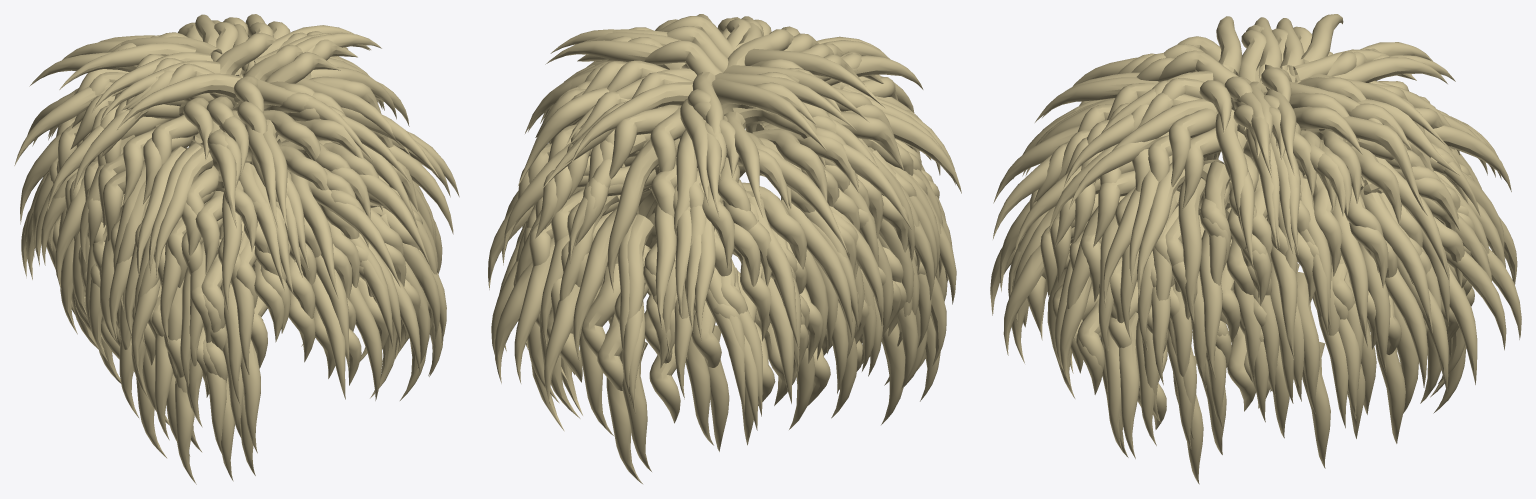
The model's file is hair.fbx.
The picture shows the model from 3 angles, left to right: view 1: azimuth 30°, elevation 25°; view 2: azimuth 150°, elevation 25°; view 3: azimuth 270°, elevation 25°; orthographic projection. The views are drawn at different scales.
Parts seen in each view (by area): view 1: Human_BaseMesh.003; view 2: Human_BaseMesh.003; view 3: Human_BaseMesh.003.
Boxes of the visible parts, x1,y1,x2,y2 form: Human_BaseMesh.003: (14, 14, 459, 484); Human_BaseMesh.003: (488, 14, 961, 483); Human_BaseMesh.003: (990, 14, 1521, 484).
Size of the model in its own units: 21.51 by 20.84 by 26.63.
